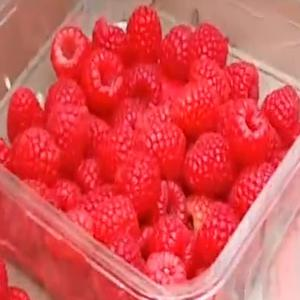raspb: (53, 46, 249, 201)
